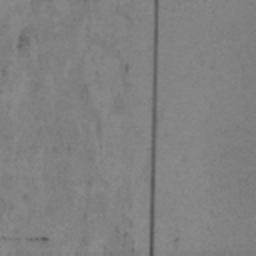Scratches: (148, 0, 160, 256), (17, 31, 29, 51), (28, 236, 49, 243)
